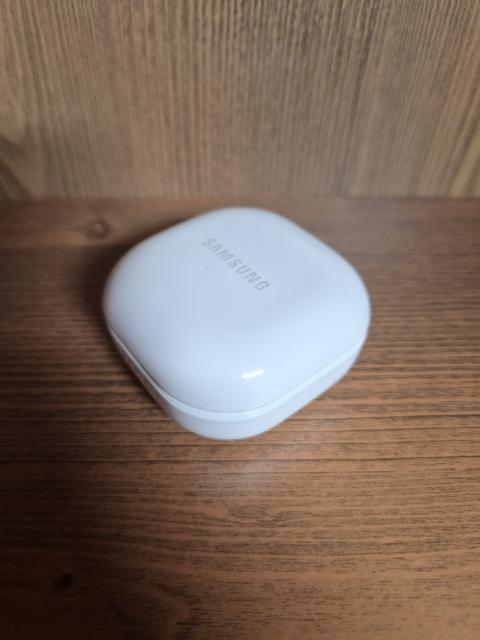earphone_case: (102, 206, 371, 440)
